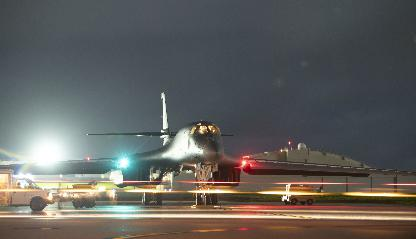AV8B: (0, 92, 416, 205)
